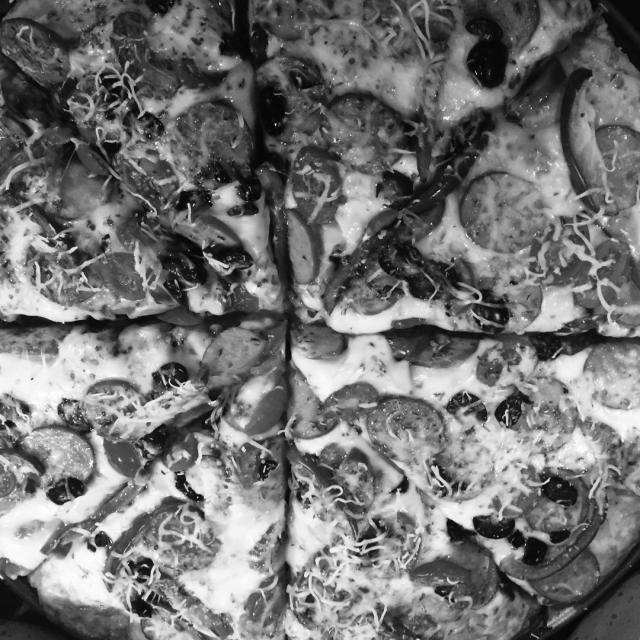pizza: (0, 1, 640, 639)
